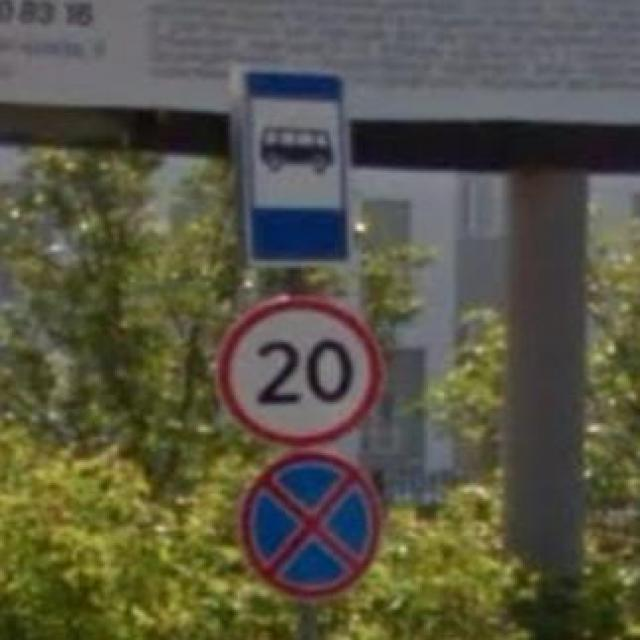Ograniczenie predkosci do 20: (216, 294, 384, 450)
